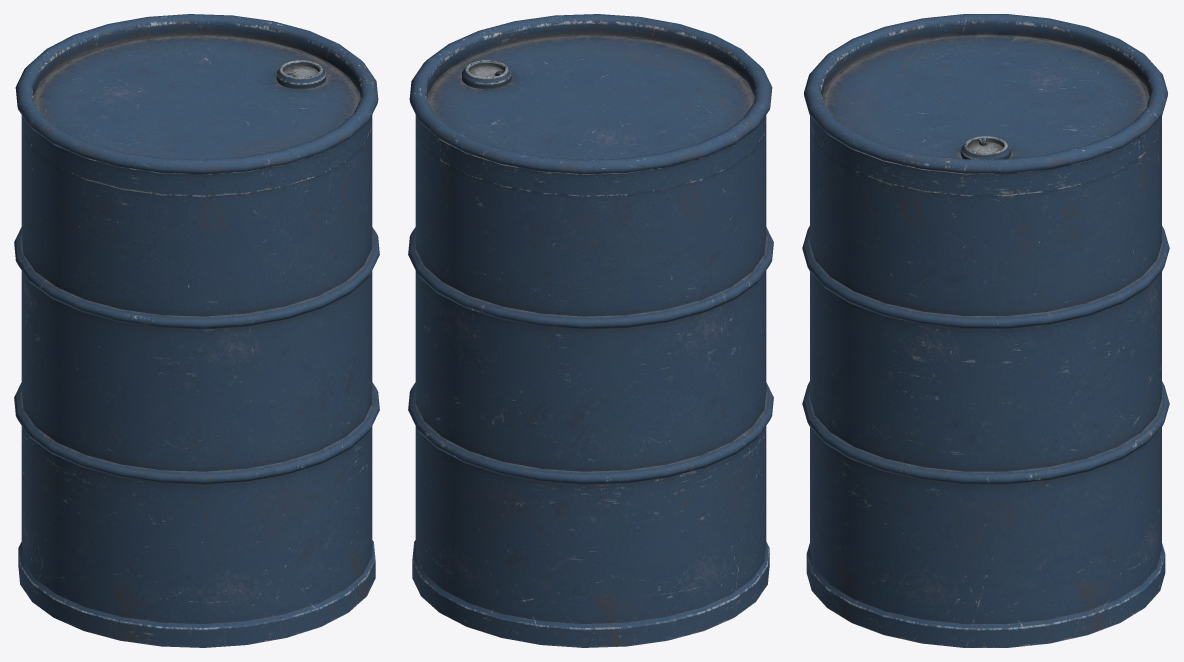
The model's file is barrel_03.lite.gltf.
3 renders of one model, left to right at view 1: azimuth 30°, elevation 25°; view 2: azimuth 150°, elevation 25°; view 3: azimuth 270°, elevation 25°, orthographic.
Parts seen in each view (by area): view 1: barrel_03; view 2: barrel_03; view 3: barrel_03.
Boxes of the visible parts, x1,y1,x2,y2 form: barrel_03: [14, 14, 379, 647]; barrel_03: [408, 14, 773, 647]; barrel_03: [802, 14, 1169, 647].
Bounding box in the file's own units: 0.6339 × 0.9305 × 0.6386.
Materials: 1 (1 with a texture image).
